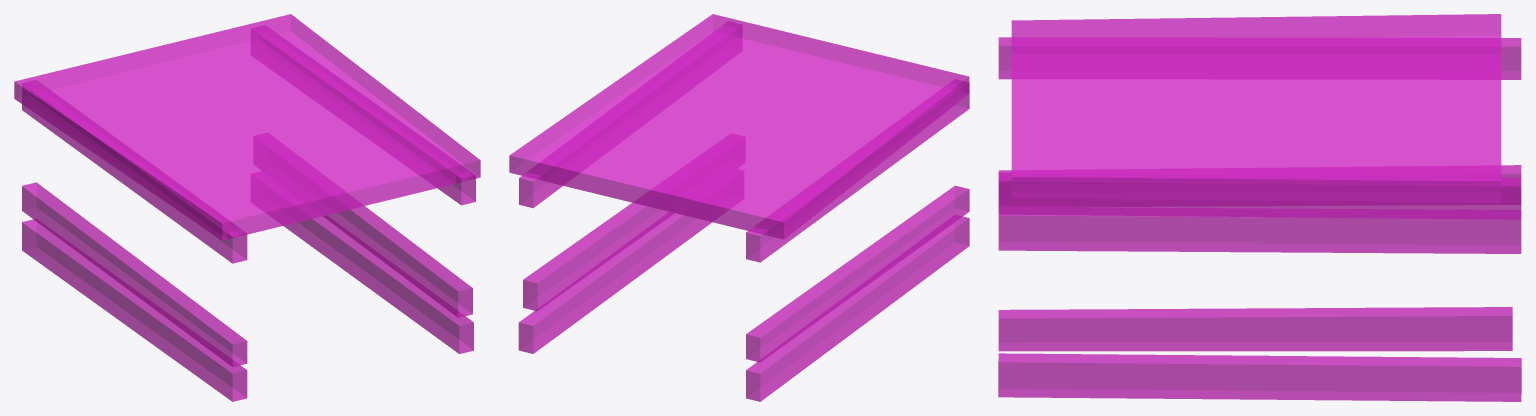
File: SM_Bld_Dock_Wood_Straight_02_Collision.fbx
3 views of the same model, side by side, from view 1: azimuth 30°, elevation 25°; view 2: azimuth 150°, elevation 25°; view 3: azimuth 270°, elevation 25° (orthographic). The views are drawn at different scales.
Visible parts, largest first — view 1: SM_Bld_Dock_Wood_Straight_02_Collision; view 2: SM_Bld_Dock_Wood_Straight_02_Collision; view 3: SM_Bld_Dock_Wood_Straight_02_Collision.
Part boxes in pixels (left/top/right/bottom): SM_Bld_Dock_Wood_Straight_02_Collision: left=14, top=14, right=480, bottom=401; SM_Bld_Dock_Wood_Straight_02_Collision: left=509, top=14, right=969, bottom=401; SM_Bld_Dock_Wood_Straight_02_Collision: left=998, top=14, right=1521, bottom=401.
Size of the model in its own units: 283 by 182 by 374.
